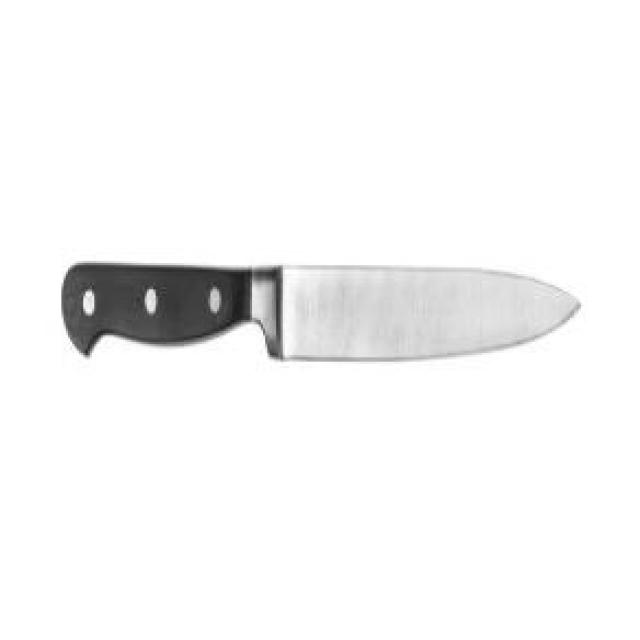knife: (53, 261, 583, 366)
